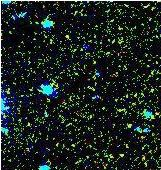star: (106, 141, 136, 170)
